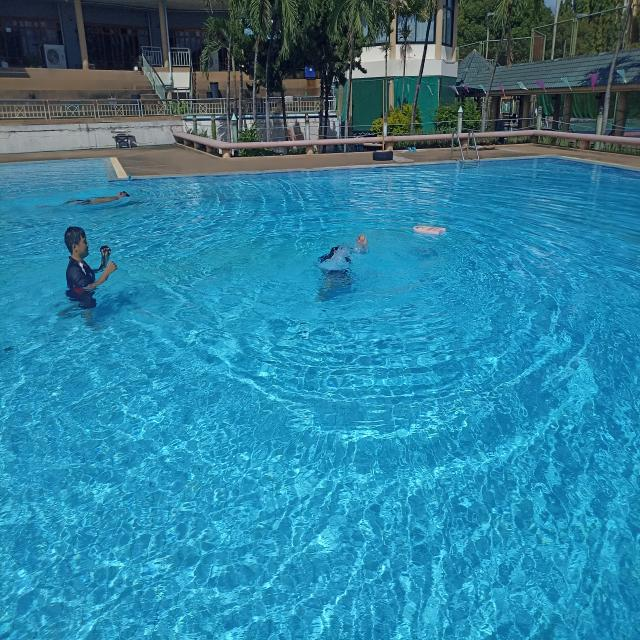Drowning: (294, 223, 383, 314)
Swimming: (58, 220, 130, 318), (42, 187, 135, 209)
